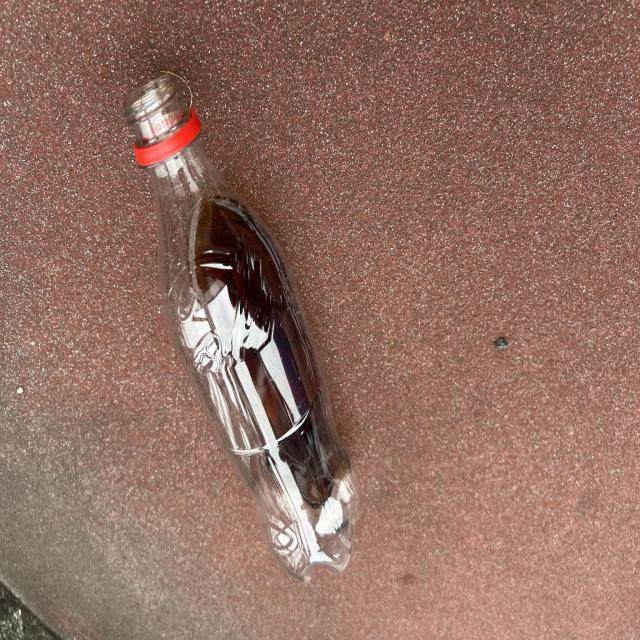low: (124, 75, 359, 581)
